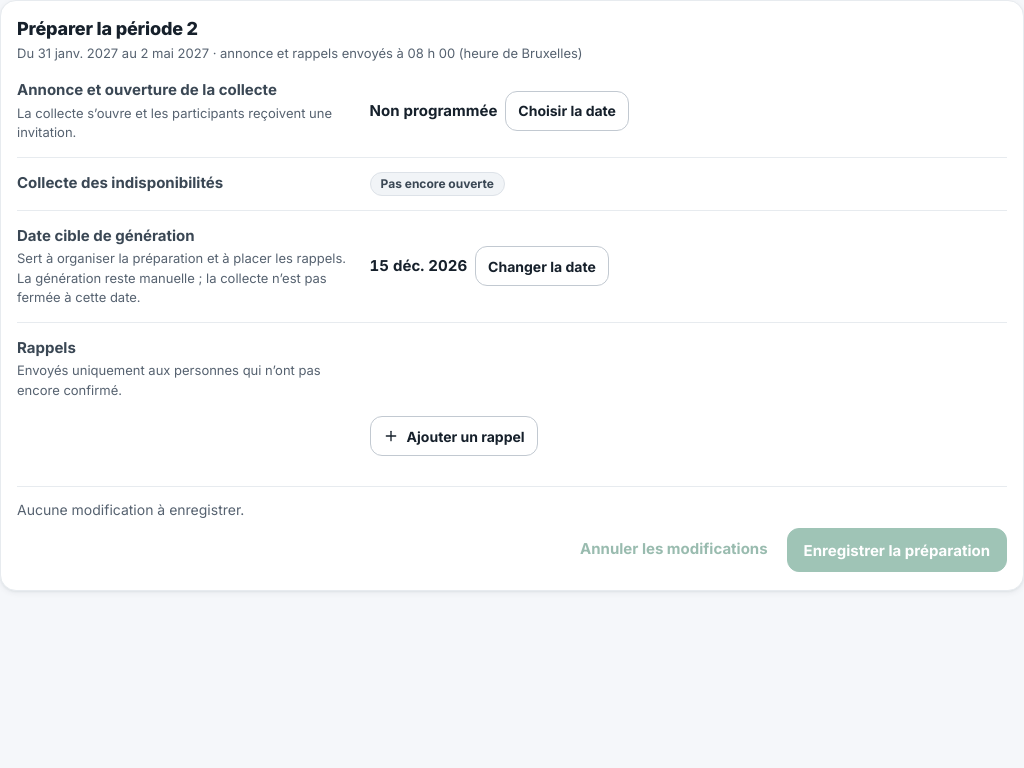
Test: PeriodPreparationPanel › says why the server refused the plan
Click the button "Ajouter un rappel" at (454, 436), box top-left (370, 416), bottom-right (538, 456)
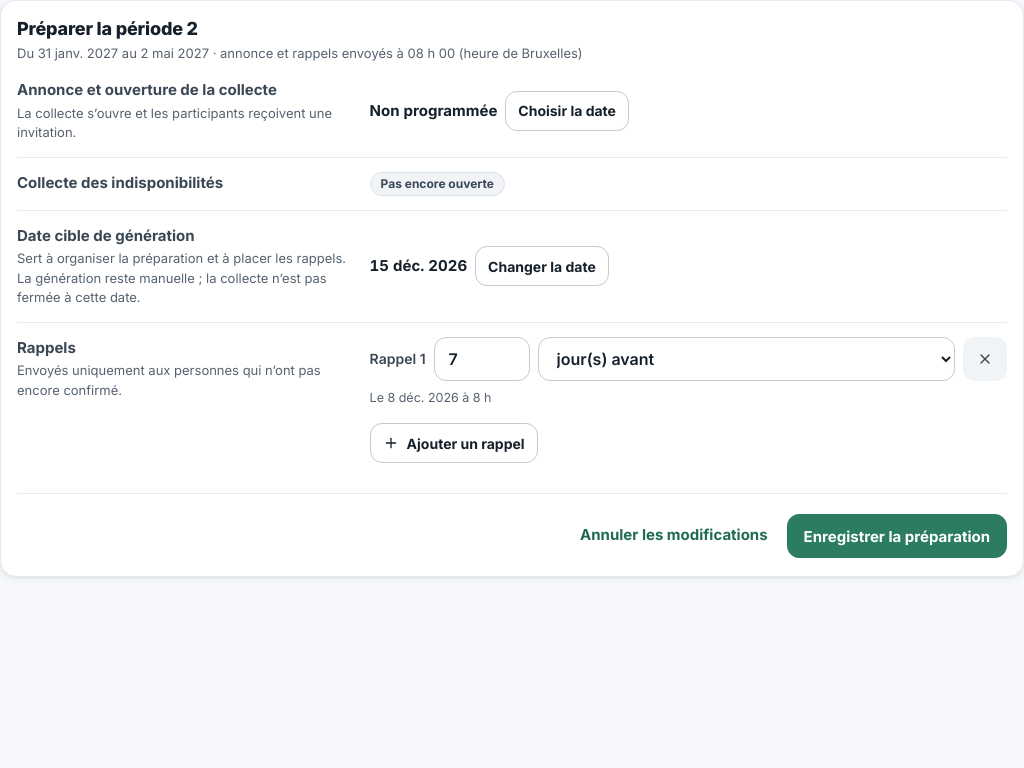
Click the button "Enregistrer la préparation" at (897, 536), box top-left (787, 514), bottom-right (1007, 558)
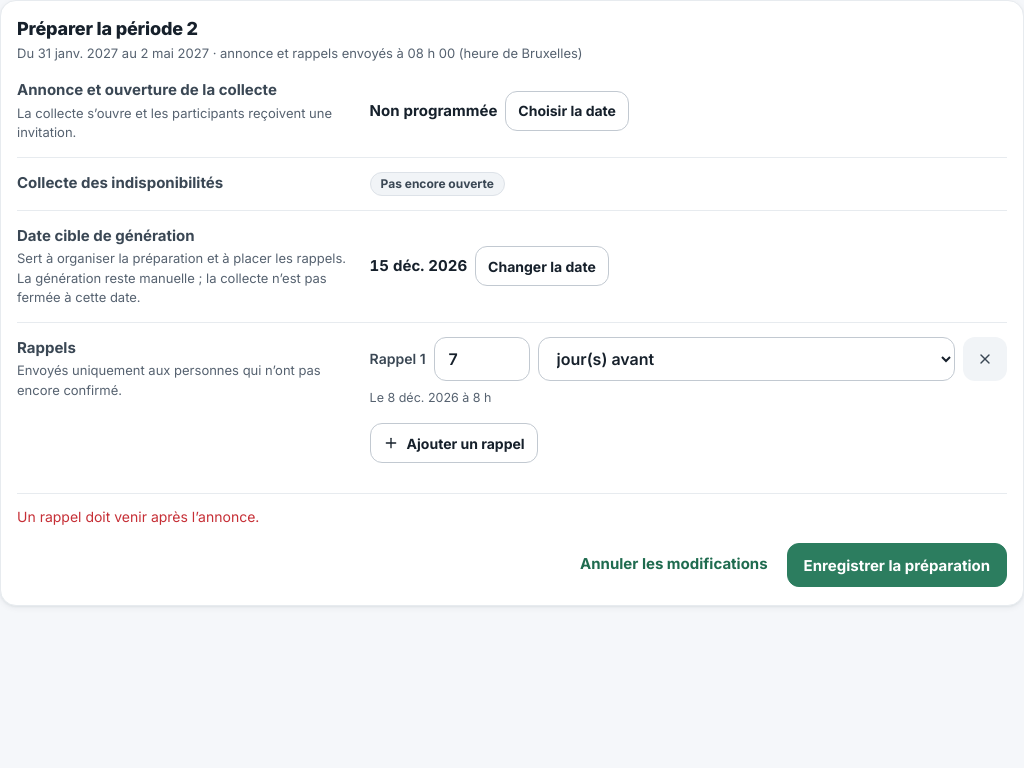
Result: the message reads "Un rappel doit venir après l’annonce." at top-left (17, 508), bottom-right (259, 525)
